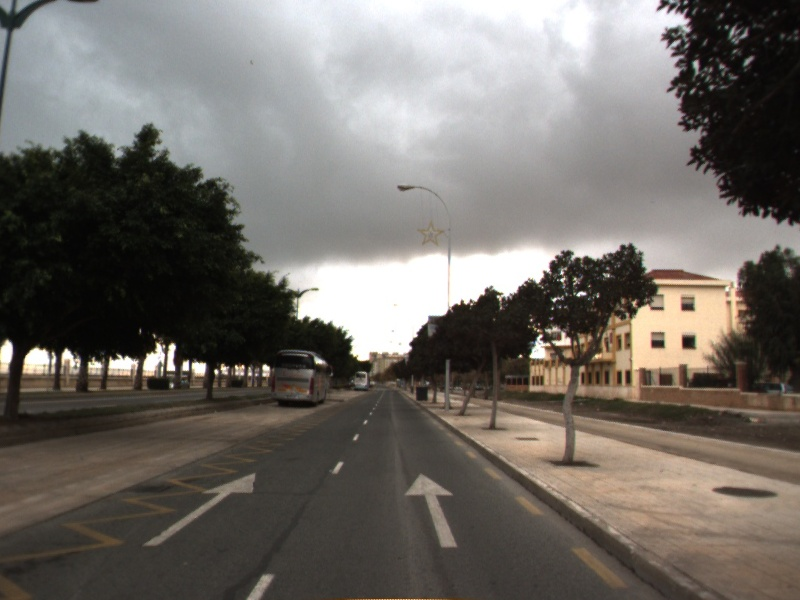STRAIGHT: (140, 470, 257, 549), (402, 470, 461, 549)
